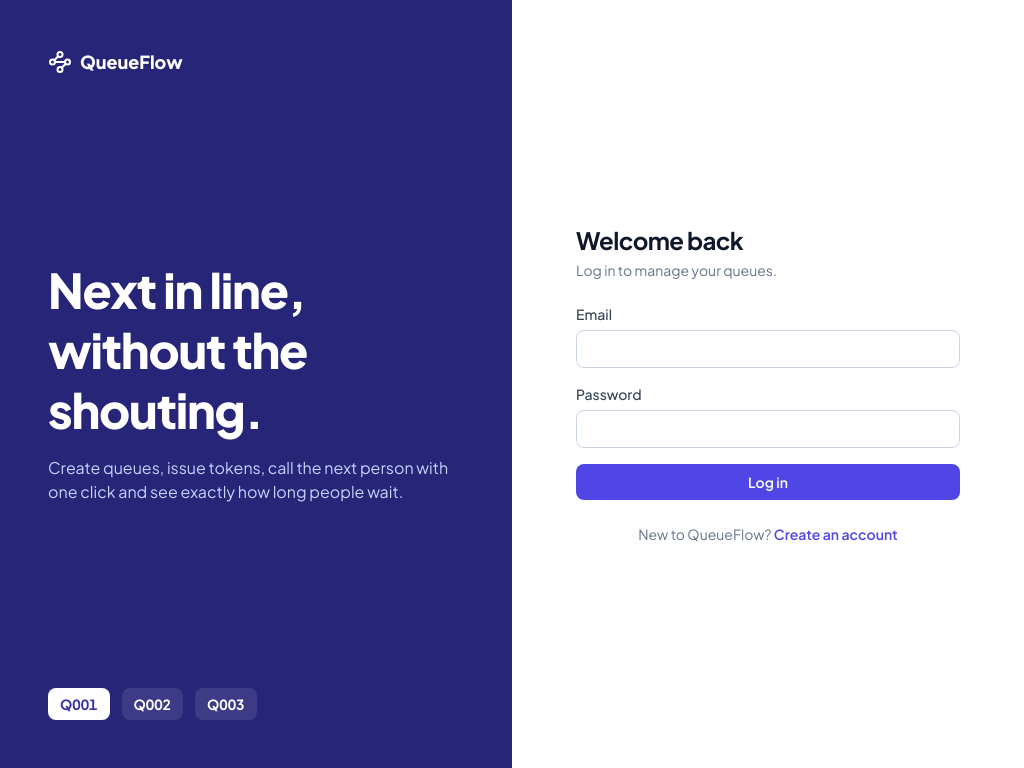
Test case: Login page › shows the server error message
Type "a@b.com" into the field labelled "Email" at (768, 349), box [576,330,960,368]
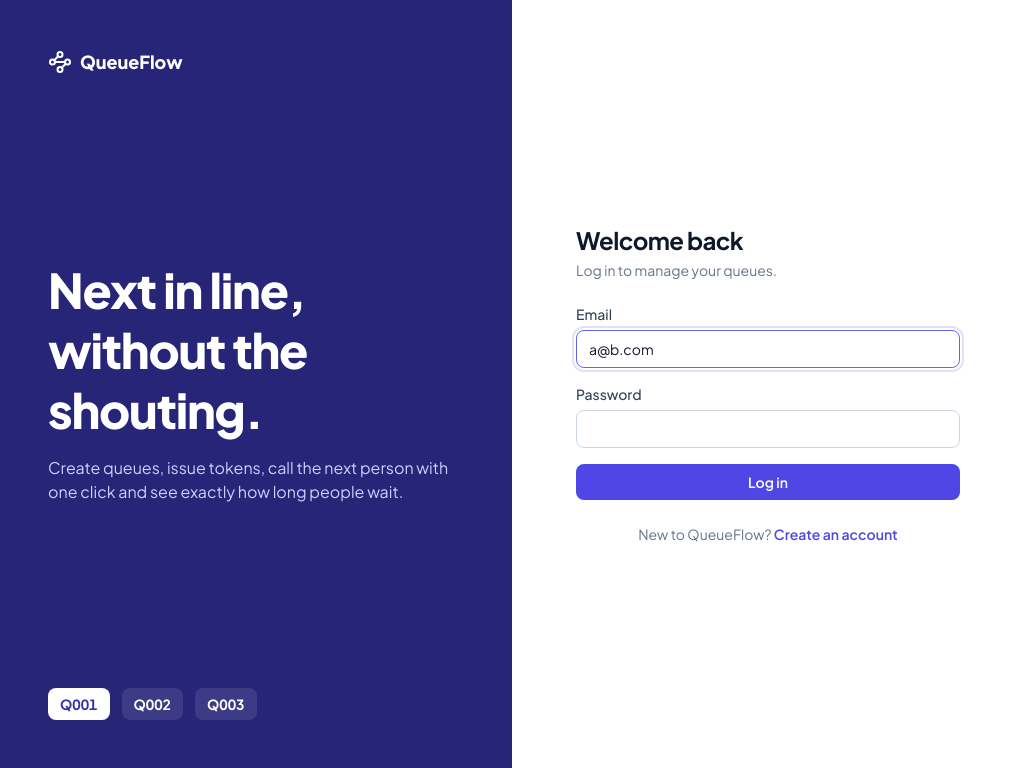
Type "wrong" into the password field labelled "Password" at (768, 429), box [576,410,960,448]
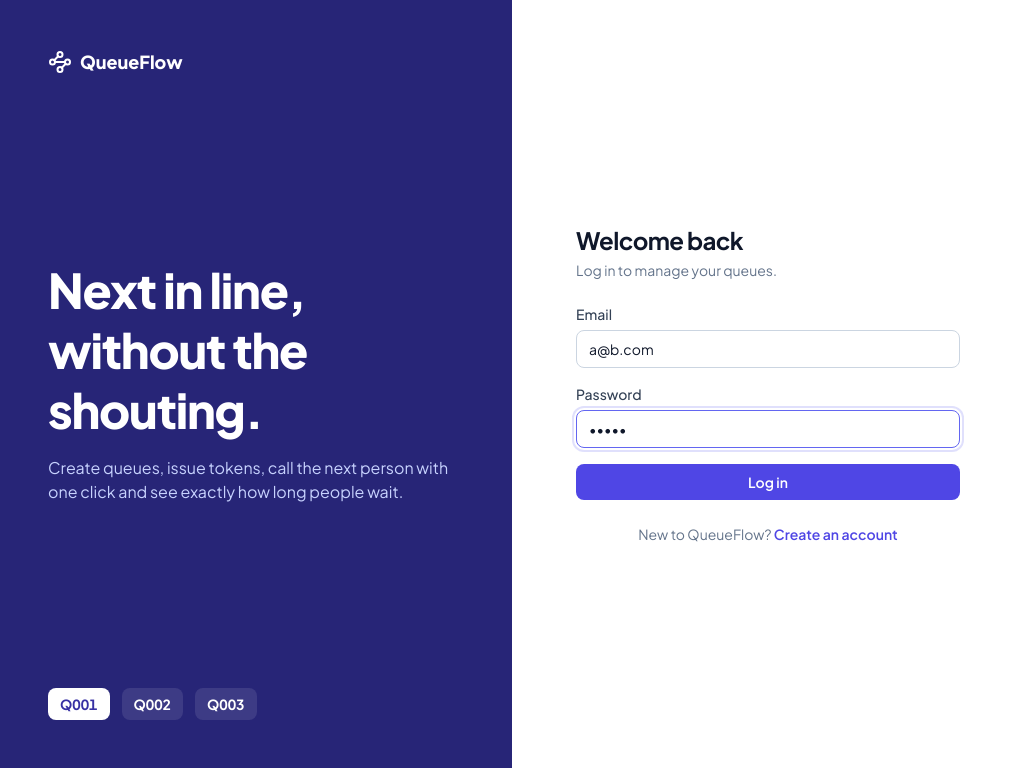
Click the button "Log in" at (768, 482), box [576,464,960,500]
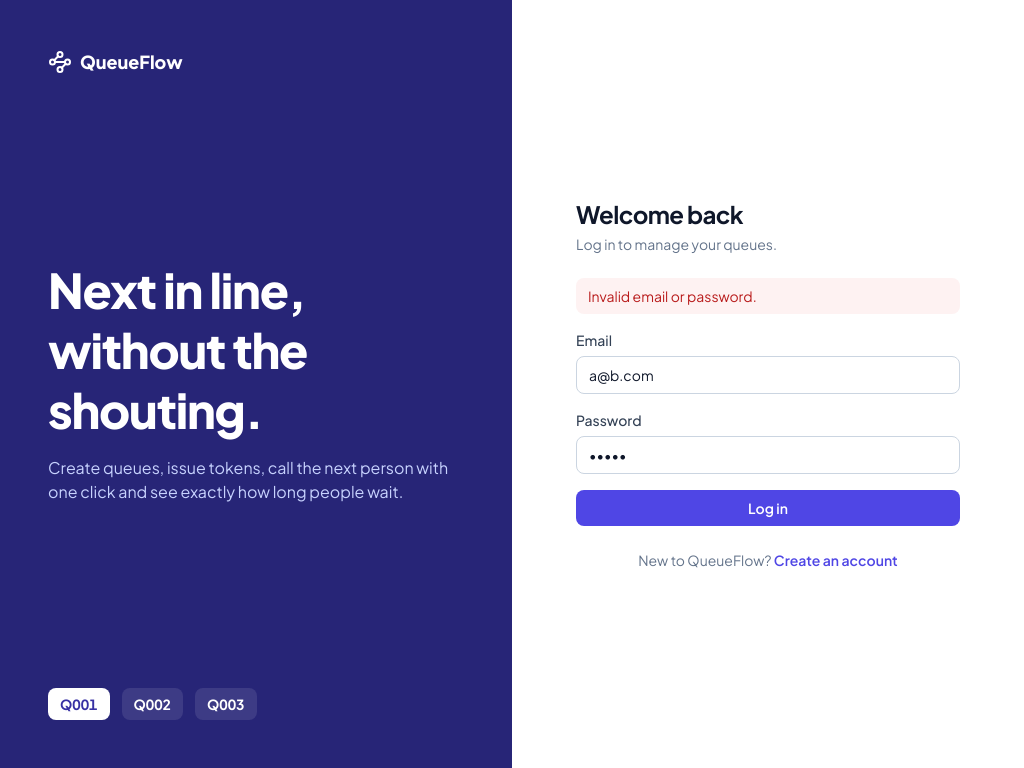
Check: the message reads "Invalid email or password.", box [588,287,757,305]
